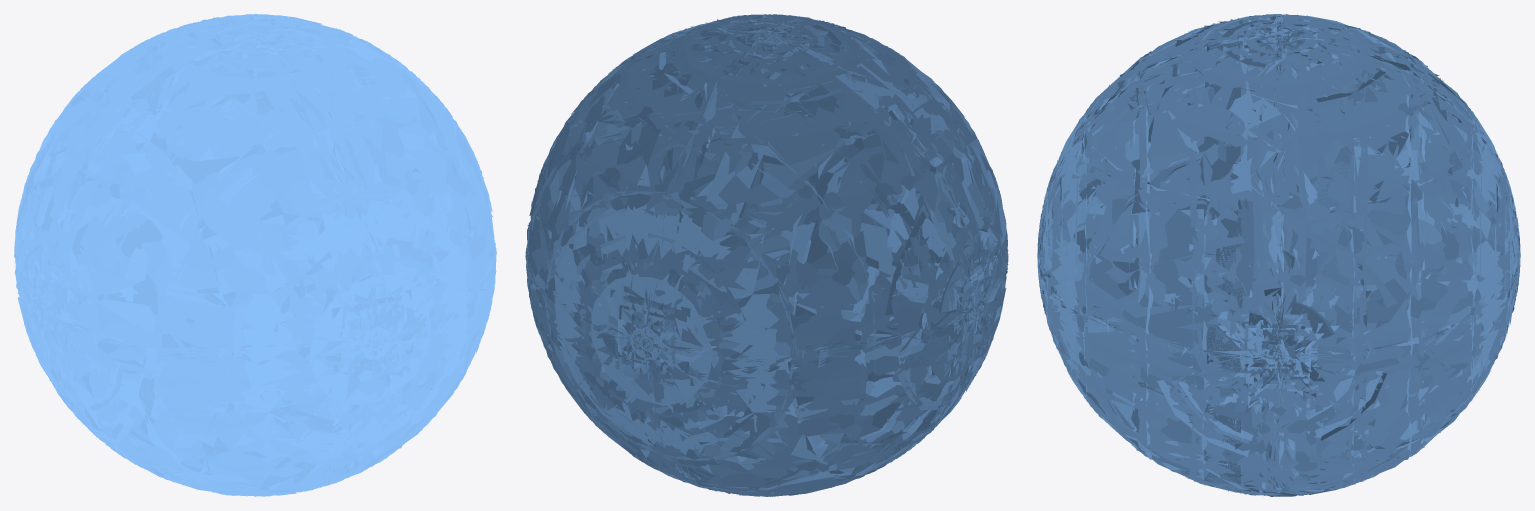
File: sys-id-hvac.glb
The picture shows the model from 3 angles, left to right: view 1: azimuth 30°, elevation 25°; view 2: azimuth 150°, elevation 25°; view 3: azimuth 270°, elevation 25°; orthographic projection.
Parts seen in each view (by area): view 1: TS-id-hvac-1710, TS-id-hvac-1715, TS-id-hvac-1709, TS-id-hvac-1716; view 2: TS-id-hvac-1710, TS-id-hvac-1715, TS-id-hvac-1709, TS-id-hvac-1716, TS-id-hvac-1717; view 3: TS-id-hvac-1710, TS-id-hvac-1715, TS-id-hvac-1709, TS-id-hvac-1716.
Boxes of the visible parts, x1,y1,x2,y2 form: TS-id-hvac-1710: (14, 14, 496, 496); TS-id-hvac-1715: (15, 14, 496, 496); TS-id-hvac-1709: (14, 14, 496, 491); TS-id-hvac-1716: (14, 27, 495, 492); TS-id-hvac-1710: (525, 14, 1008, 496); TS-id-hvac-1715: (526, 14, 1007, 496); TS-id-hvac-1709: (525, 17, 1008, 491); TS-id-hvac-1716: (526, 23, 1006, 492); TS-id-hvac-1717: (544, 191, 1007, 495); TS-id-hvac-1710: (1037, 14, 1520, 496); TS-id-hvac-1715: (1038, 14, 1519, 495); TS-id-hvac-1709: (1037, 16, 1520, 496); TS-id-hvac-1716: (1038, 33, 1519, 459).
Bounding box in the file's own units: 2 × 2 × 2.
